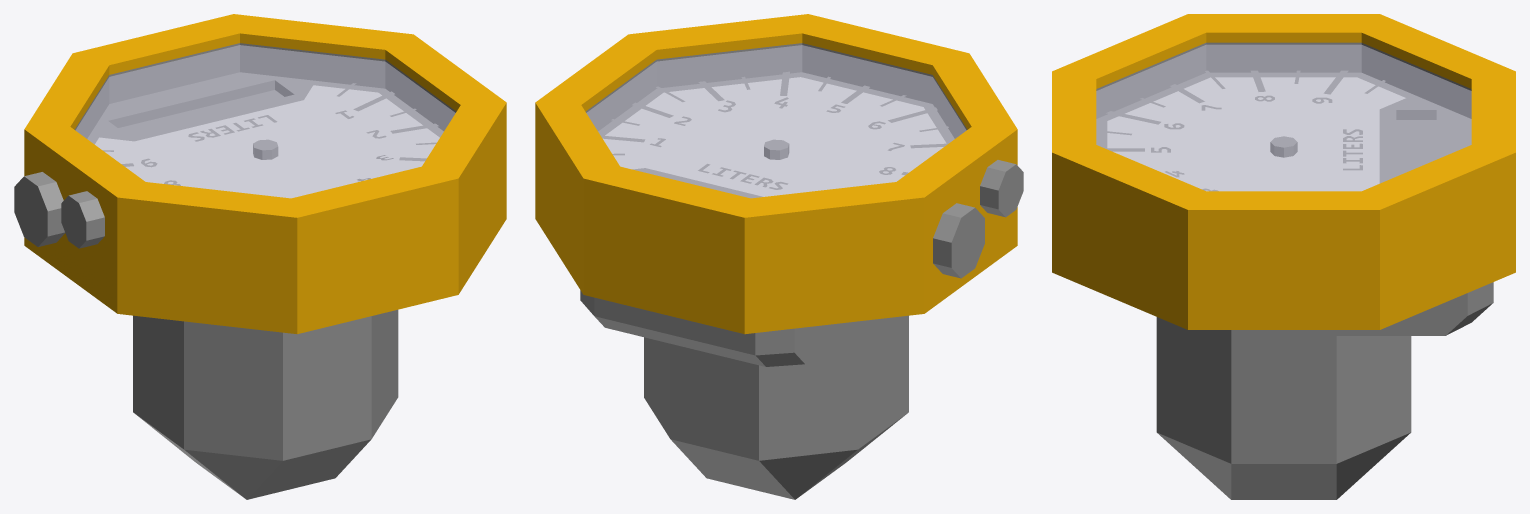
The model's file is dpe_flow_meter.dae.
The picture shows the model from 3 angles, left to right: view 1: azimuth 30°, elevation 25°; view 2: azimuth 150°, elevation 25°; view 3: azimuth 270°, elevation 25°; orthographic projection. The views are drawn at different scales.
Visible parts, largest first — view 1: flow_meter; view 2: flow_meter; view 3: flow_meter.
Boxes of the visible parts, left/top/right/bottom form: flow_meter: left=14, top=14, right=506, bottom=499; flow_meter: left=535, top=14, right=1023, bottom=499; flow_meter: left=1052, top=14, right=1515, bottom=499.
Size of the model in its own units: 0.22 by 0.21 by 0.1827.
